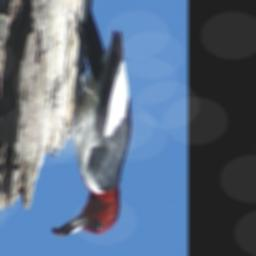Woodpecker: (52, 0, 133, 239)
